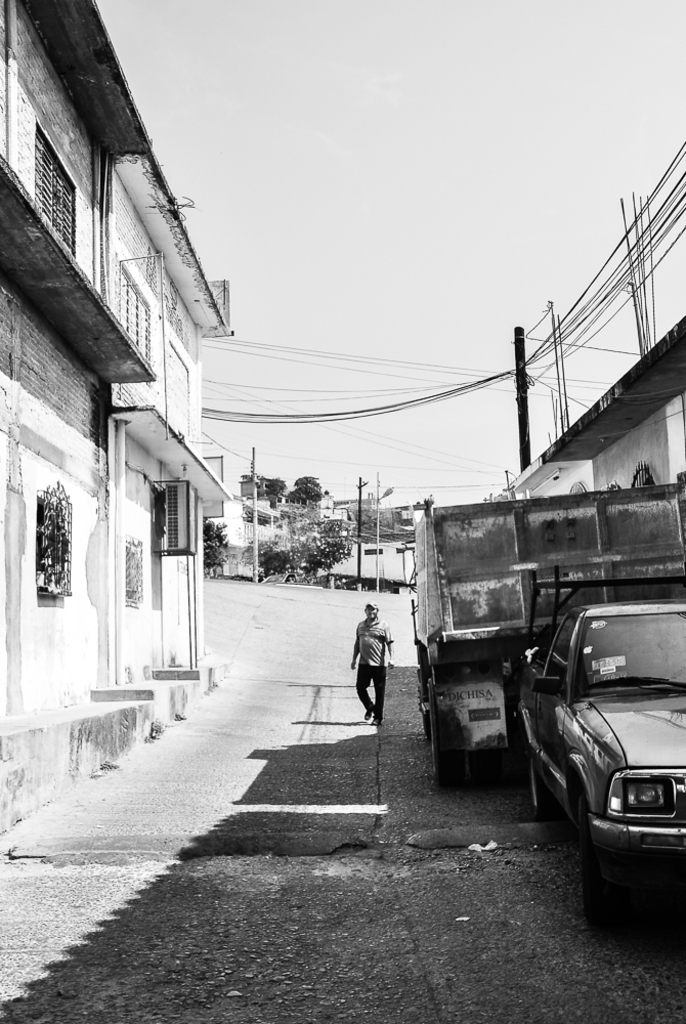Car: (534, 578, 676, 931)
